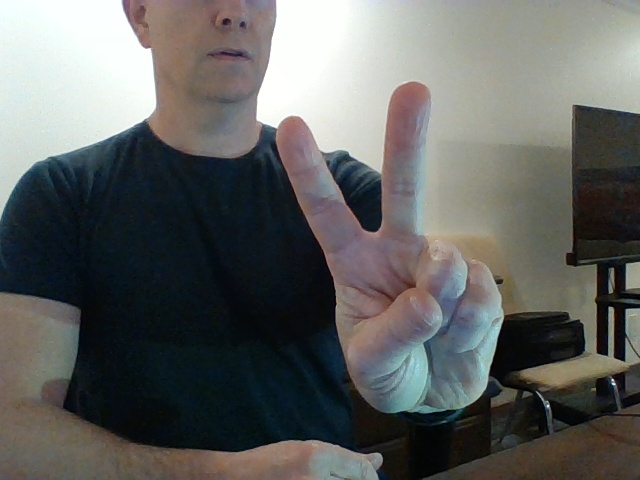Victory: (275, 81, 504, 413)
